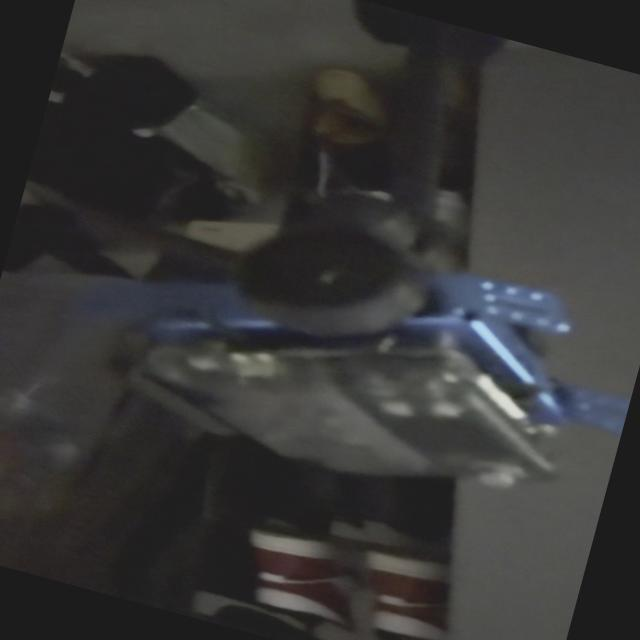mbot-detection: (41, 132, 640, 562)
